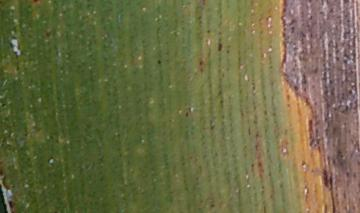tarspot: (321, 167, 330, 189), (198, 60, 205, 74), (216, 41, 224, 53), (44, 29, 53, 38), (155, 57, 162, 67), (7, 199, 14, 209), (205, 28, 211, 35), (30, 1, 39, 5)
